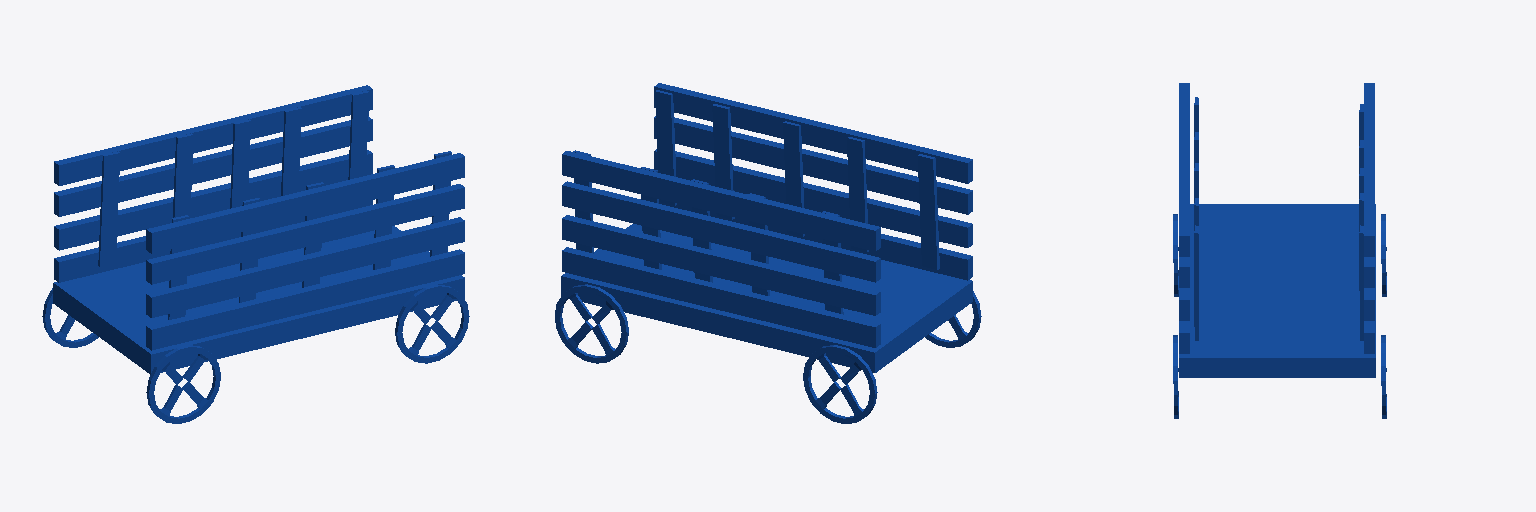
Rendered from Carreta.obj.
The picture shows the model from 3 angles: view 1: azimuth 30°, elevation 25°; view 2: azimuth 150°, elevation 25°; view 3: azimuth 270°, elevation 25°; orthographic projection.
Visible parts, largest first — view 1: Carreta; view 2: Carreta; view 3: Carreta.
Part boxes in pixels (x1,y1,x2,y2): Carreta: (42, 85, 469, 423); Carreta: (555, 83, 981, 423); Carreta: (1173, 83, 1386, 418).
Size of the model in its own units: 31.04 by 18.05 by 17.88.